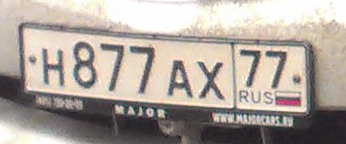character: (127, 41, 157, 97), (193, 56, 226, 100), (99, 39, 125, 93), (165, 56, 195, 101), (72, 38, 97, 90), (263, 45, 288, 90), (40, 45, 67, 86), (237, 42, 261, 88)
